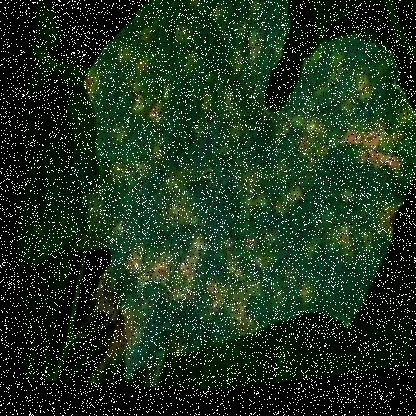DownyMildew: (25, 0, 415, 413), (76, 80, 324, 351), (252, 28, 415, 294), (124, 0, 302, 167)
